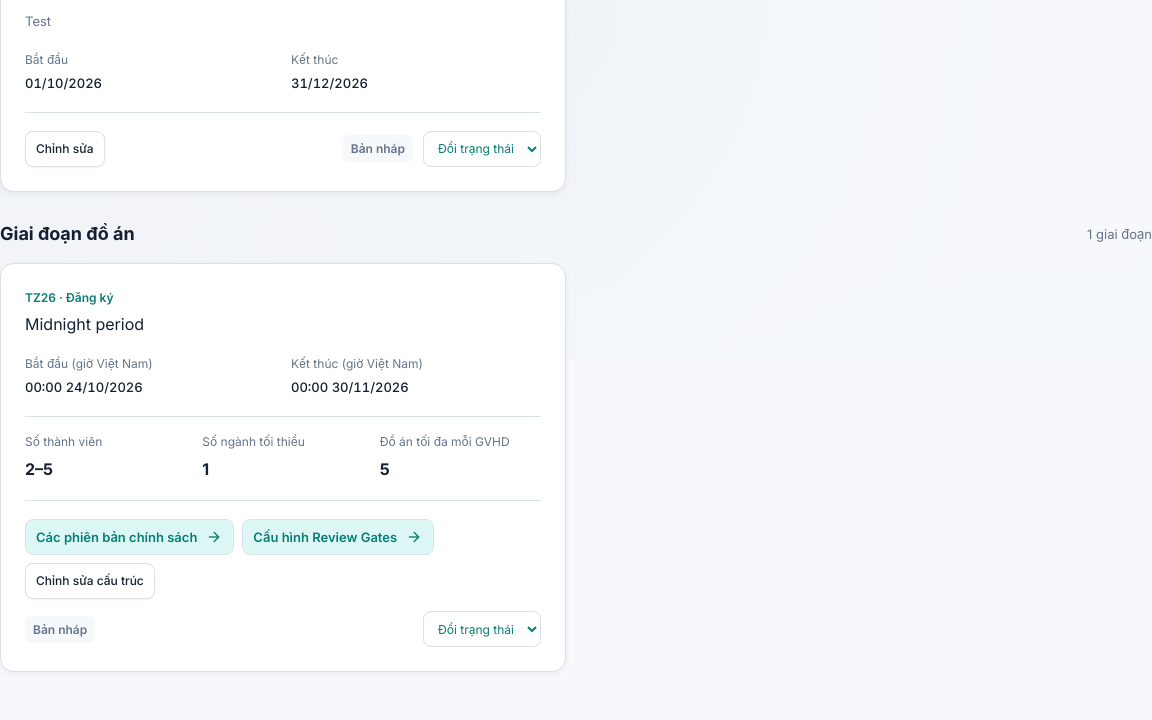
Test: Vietnam academic time at the form boundary › reads server instant 2026-10-23T17:00:00 as Vietnam midnight in labels and edit inputs
(page scrolled)
Expected: the text "00:00 24/10/2026" is shown, [25,379,143,395]
Click the button "Chỉnh sửa cấu trúc": click(90, 581) [25,563,155,599]
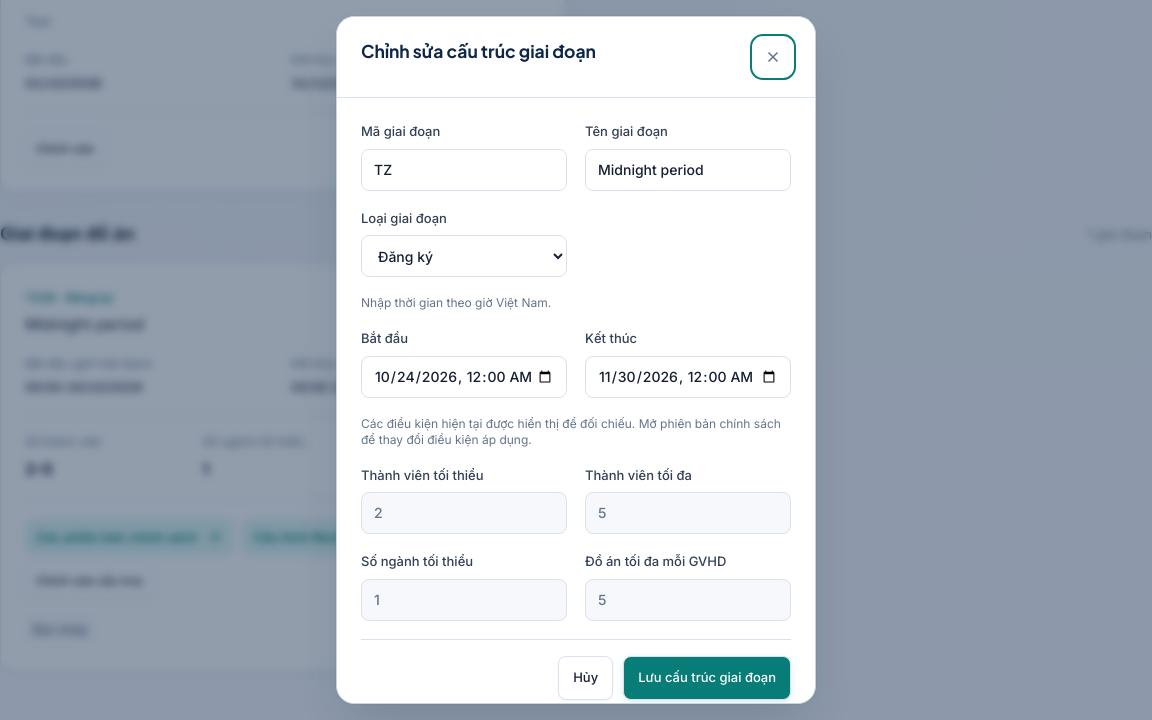
Expected: the field labelled "Bắt đầu" holds "2026-10-24T00:00", [361,356,567,398]
